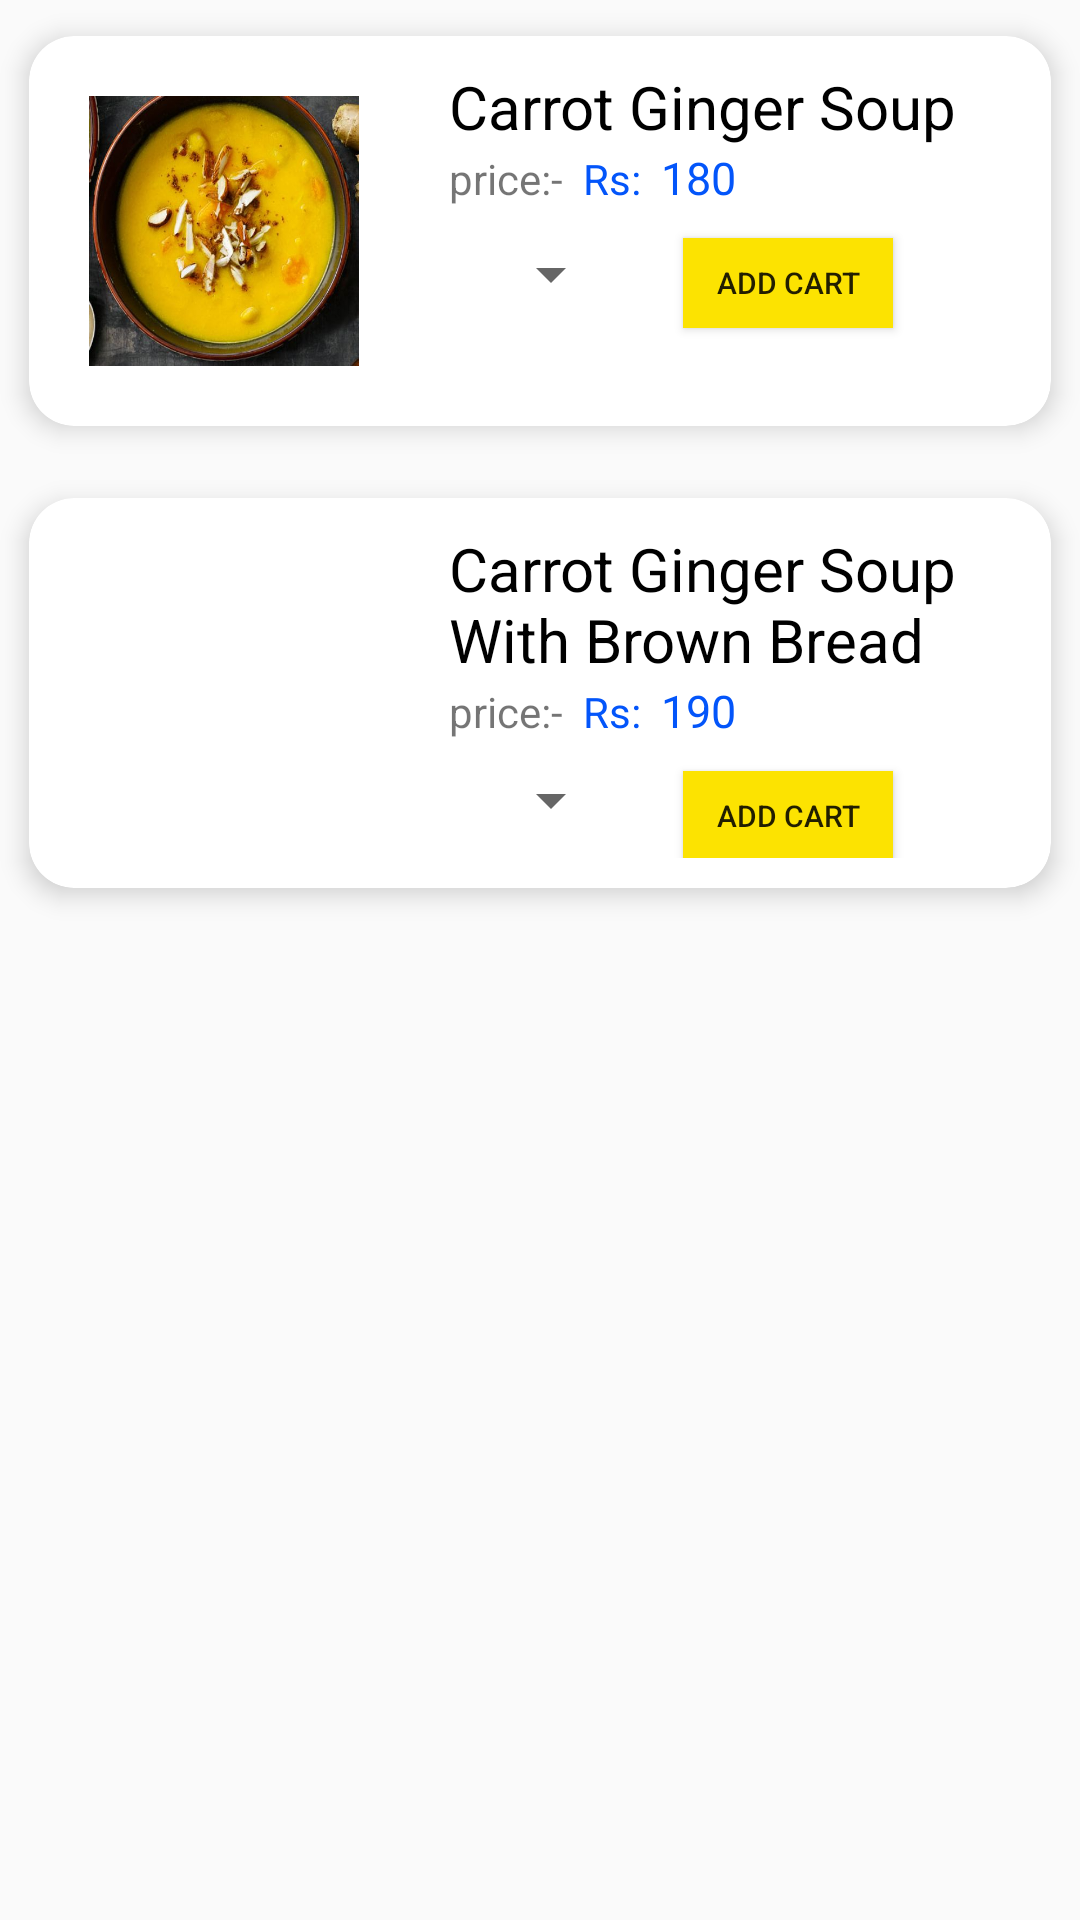

Point at icon controls on the screen. Image size 1080w x 1920h, points as (x,y).
carrot ginge soup: (224,231)
